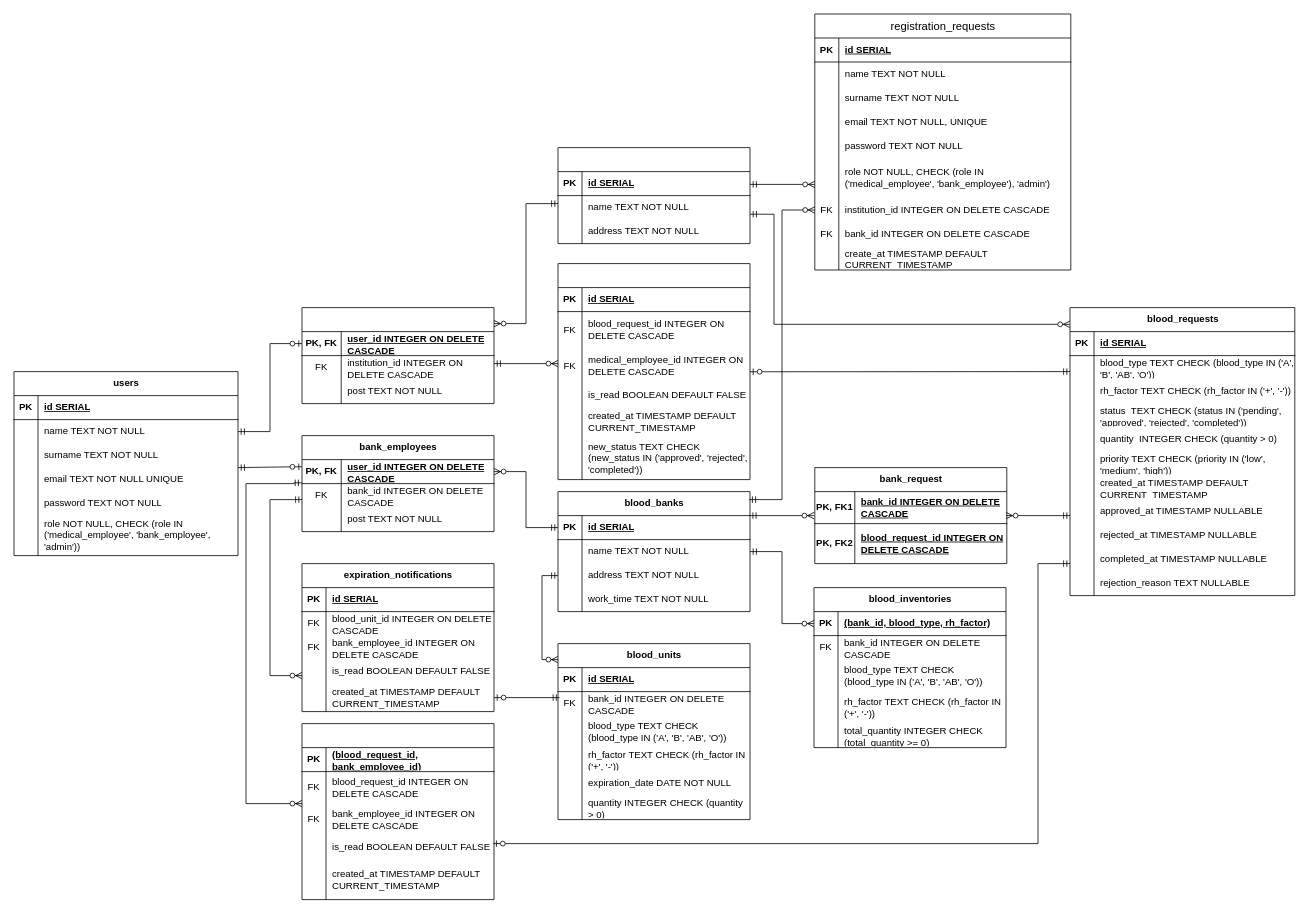
Some shapes in this 1309 by 914 pixel diagram are drawn without their labels. The box of each missing label's shape, as (x1, y1, x2, y2) in pixels:
change_status_notifications: (557, 263, 750, 480)
medical_employees: (301, 307, 494, 404)
medical_institutions: (557, 147, 750, 244)
new_request_notifications: (301, 723, 494, 900)
